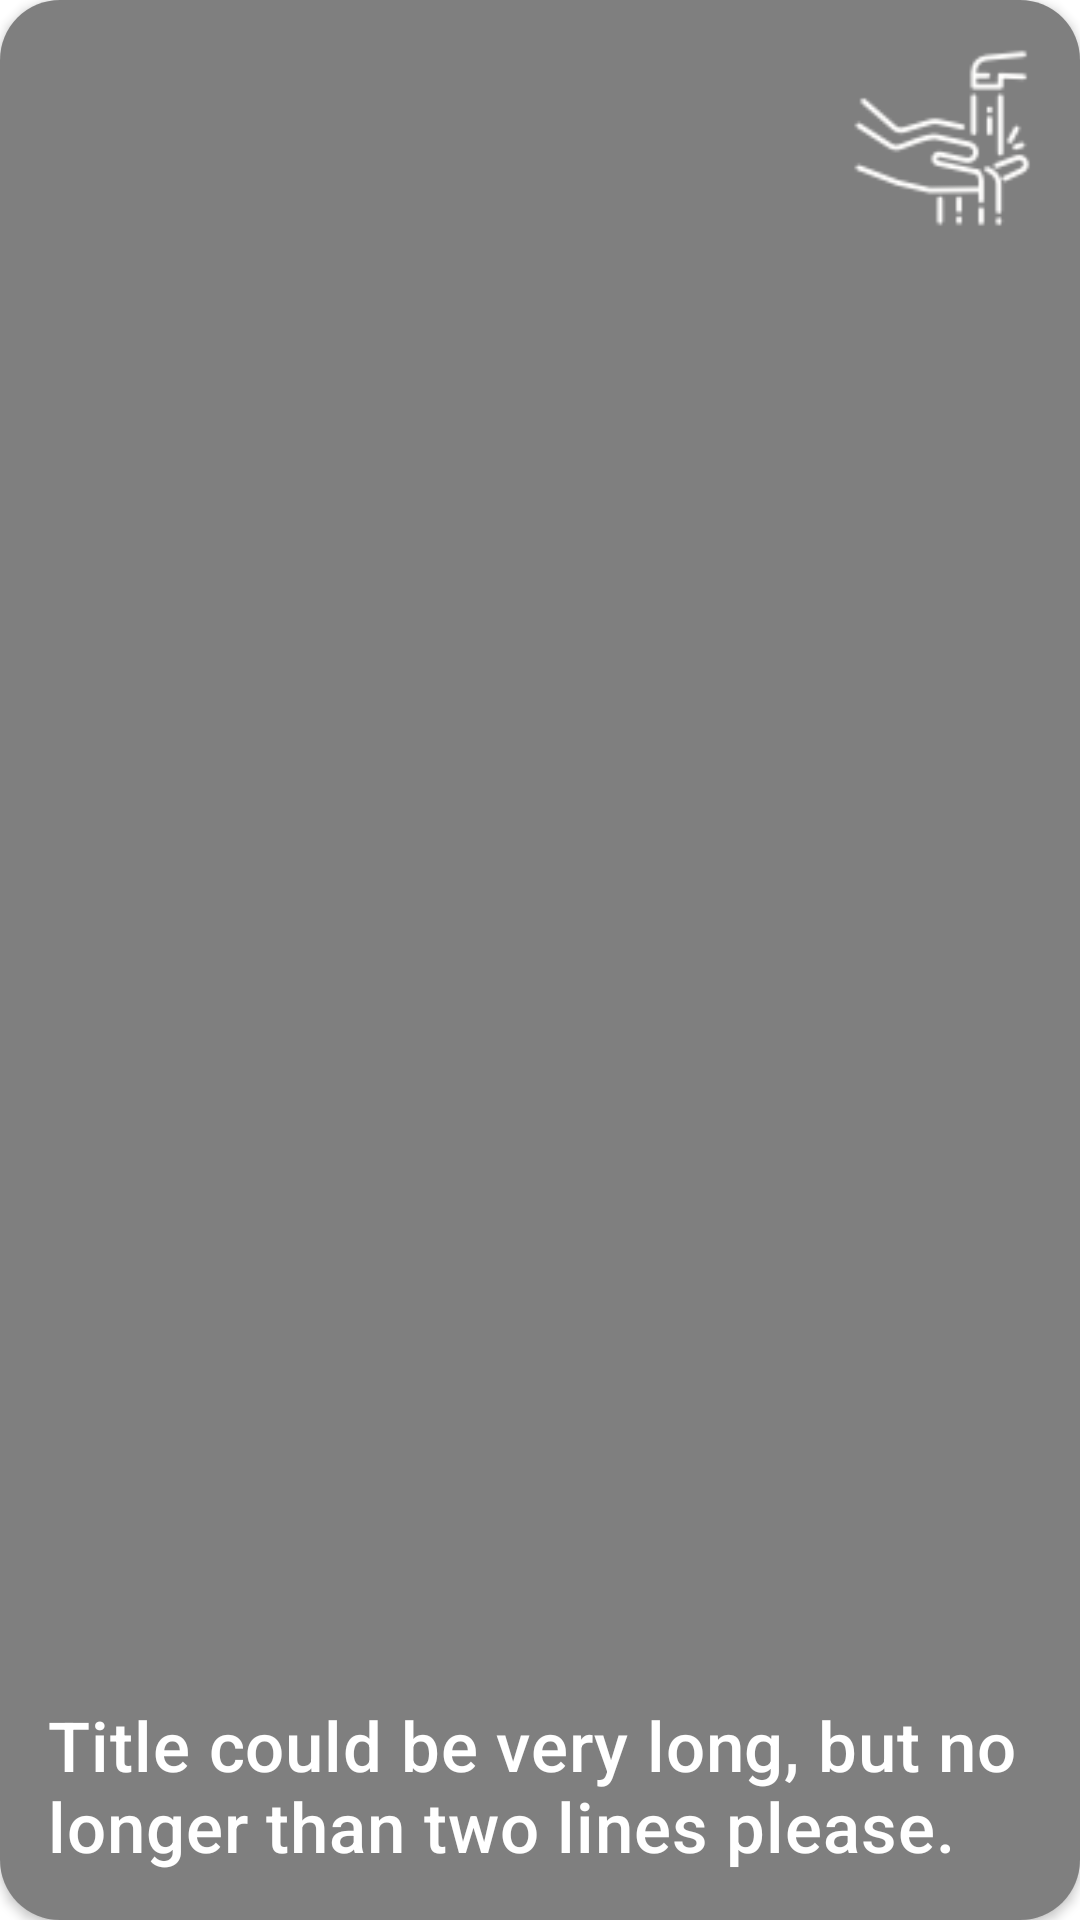

Icons on this 1080*1920 Android screen, each with the point to tap as point (x, y):
thumbnail handwash: point (942, 138)
